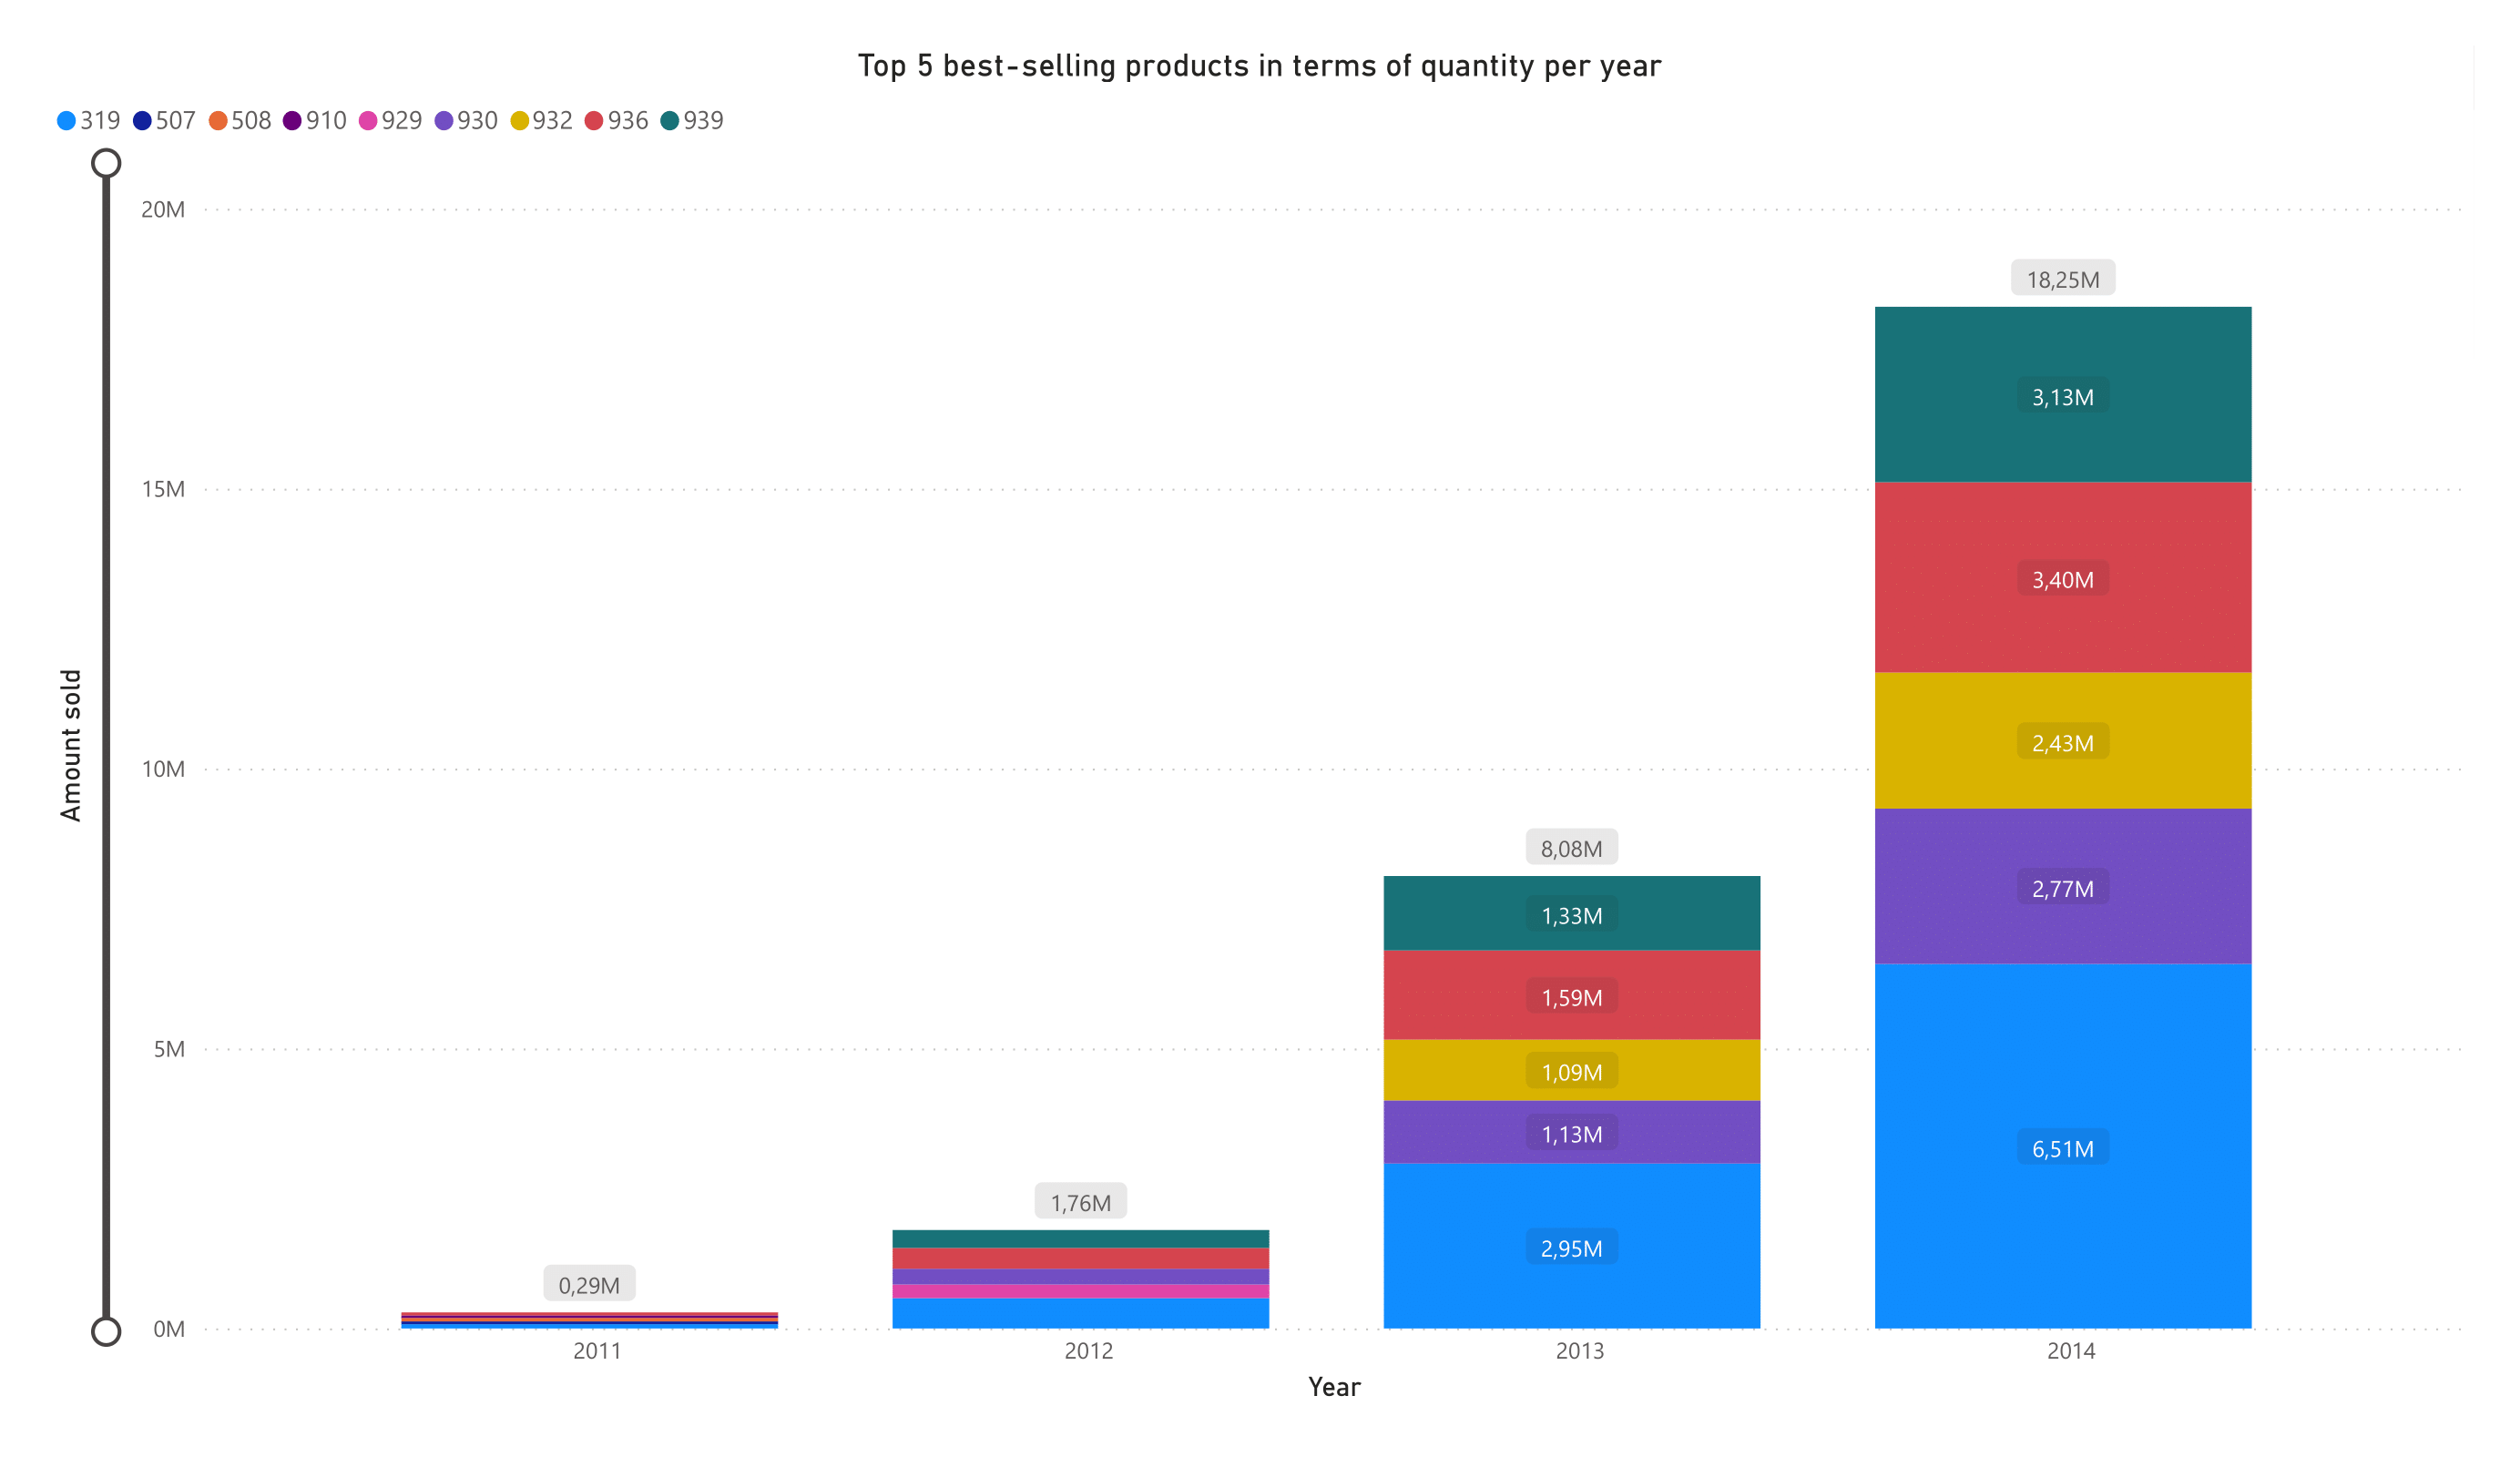

The page's visual inventory and layout, read from the dashboard file:
{"tool":"powerbi","page":{"name":"Top 5 products per year","canvas":[1280,720],"ordinal":0},"visuals":[{"type":"columnChart","title":"Top 5 best-selling products in terms of quantity per year","fields":{"Y":["Sum(Top5 products.Rank.AMOUNT)"],"Series":["Top5 products.Rank.PRODUCTID"],"Category":["Top5 products.Rank.YEAR.Variation.Hiérarchie de dates.Année"]},"box":[0,0,1280,720.3],"z":0}]}

Visuals, with their boxes on the page's 1280x720 design canvas (x1, y1, x2, y2). These are canvas units, not pixel positions in the 2520x1457 screenshot, which may show the page scaled, cropped or inside an application window:
"Top 5 best-selling products in terms of quantity per year" columnChart: left=0, top=0, right=1280, bottom=720
